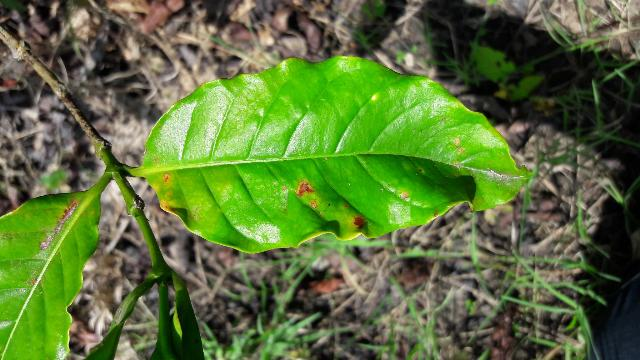rust_level_2: (140, 59, 530, 249)
